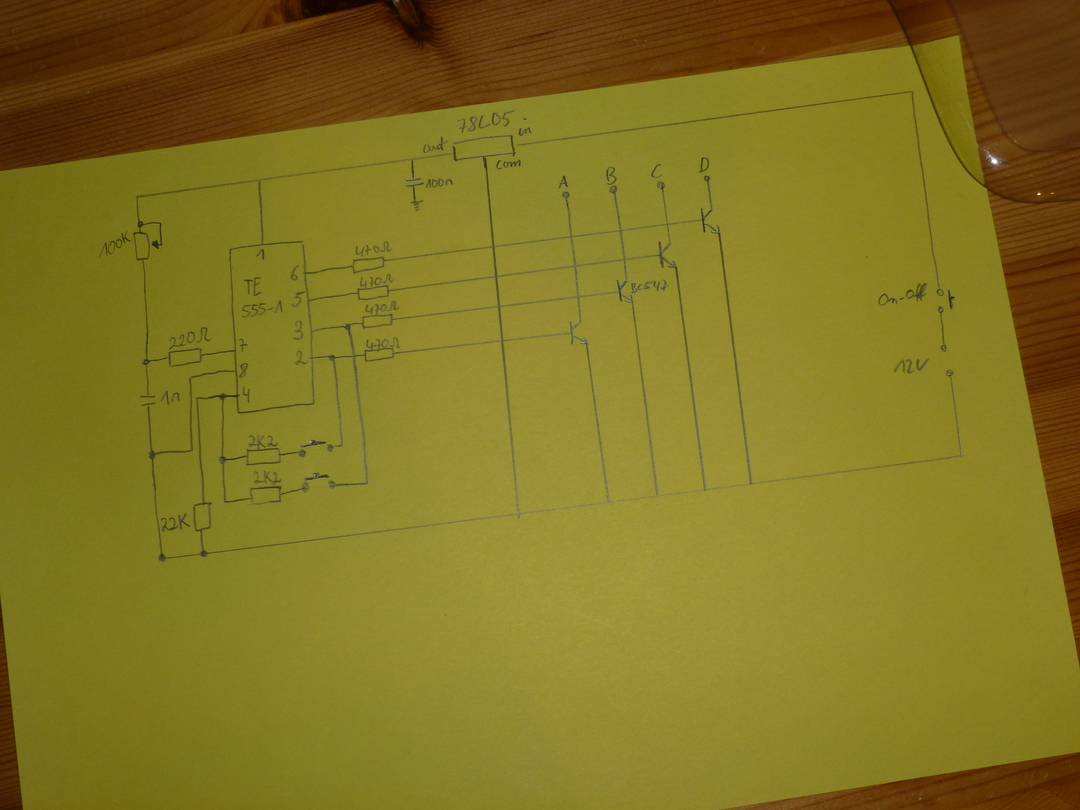capacitor.unpolarized: (138, 393, 158, 408), (404, 176, 425, 189)
crossover: (488, 242, 500, 252), (497, 336, 508, 346), (494, 302, 505, 311), (662, 220, 673, 229), (570, 262, 580, 271), (616, 227, 627, 235), (492, 271, 501, 280), (567, 232, 576, 241), (573, 293, 583, 301), (620, 255, 630, 263), (349, 352, 359, 360)
gnd: (409, 196, 425, 213)
integrated_cricuit.ne555: (228, 239, 316, 414)
junction: (140, 356, 154, 369), (156, 551, 169, 564), (147, 449, 159, 461), (327, 352, 338, 364), (254, 175, 265, 186), (342, 321, 353, 332), (135, 218, 146, 229), (218, 454, 228, 466), (198, 549, 211, 558), (956, 449, 966, 460), (133, 192, 143, 203), (514, 509, 525, 519), (407, 155, 417, 165), (700, 485, 711, 494), (604, 497, 613, 508), (218, 391, 227, 402), (747, 478, 756, 488), (653, 491, 662, 501), (194, 394, 203, 404), (362, 478, 371, 488), (907, 88, 917, 96), (187, 373, 195, 382), (156, 219, 165, 227), (222, 498, 230, 506), (188, 445, 195, 454), (338, 441, 345, 449)
resistor: (167, 347, 205, 368), (248, 485, 284, 505), (244, 448, 283, 466), (192, 500, 213, 533), (350, 256, 385, 273), (357, 284, 390, 301), (360, 314, 394, 330), (363, 347, 396, 363)
resistor.adjustable: (133, 230, 165, 262)
switch: (299, 471, 338, 493), (296, 438, 337, 458), (934, 286, 956, 314)
terminal: (938, 340, 951, 355), (559, 189, 573, 202), (943, 368, 956, 380), (655, 179, 668, 191), (608, 185, 620, 196), (702, 173, 712, 185)
text: (239, 276, 286, 319), (456, 108, 515, 134), (876, 281, 929, 308), (168, 325, 212, 350), (98, 229, 131, 258), (893, 356, 930, 375), (353, 240, 391, 258), (160, 513, 190, 533), (364, 335, 401, 351), (630, 279, 669, 294), (358, 272, 394, 288), (364, 299, 400, 315), (248, 432, 280, 450), (252, 469, 283, 485), (422, 135, 448, 154), (160, 389, 181, 408), (494, 157, 522, 171), (425, 177, 454, 189), (291, 318, 305, 342), (517, 117, 533, 136), (604, 165, 618, 185), (241, 385, 255, 405), (649, 161, 664, 179), (290, 290, 305, 308), (293, 348, 308, 366), (237, 361, 251, 378), (698, 155, 711, 173), (290, 263, 301, 281), (557, 174, 569, 190), (255, 248, 268, 262), (236, 337, 248, 351)
transistor: (700, 204, 724, 236), (657, 239, 680, 270), (568, 318, 590, 346), (615, 278, 635, 304)
voltage.dc_regulator: (451, 135, 516, 163)
